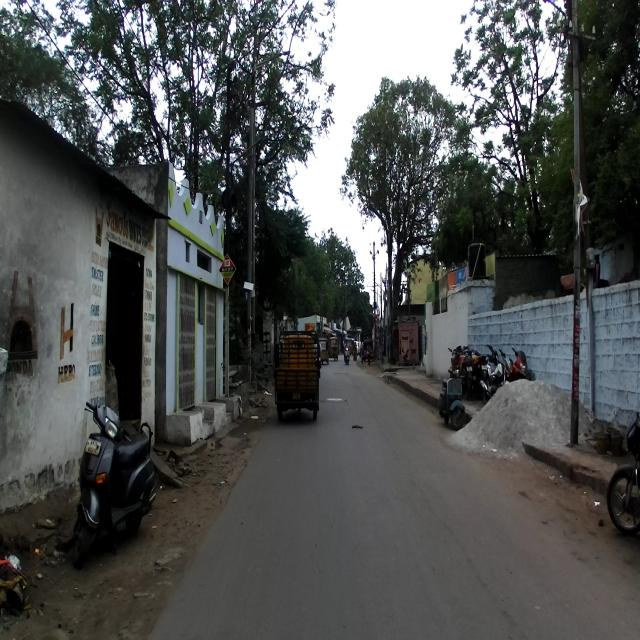autorickshaw: (273, 330, 322, 420)
scooter: (69, 401, 157, 568), (437, 366, 465, 432)
